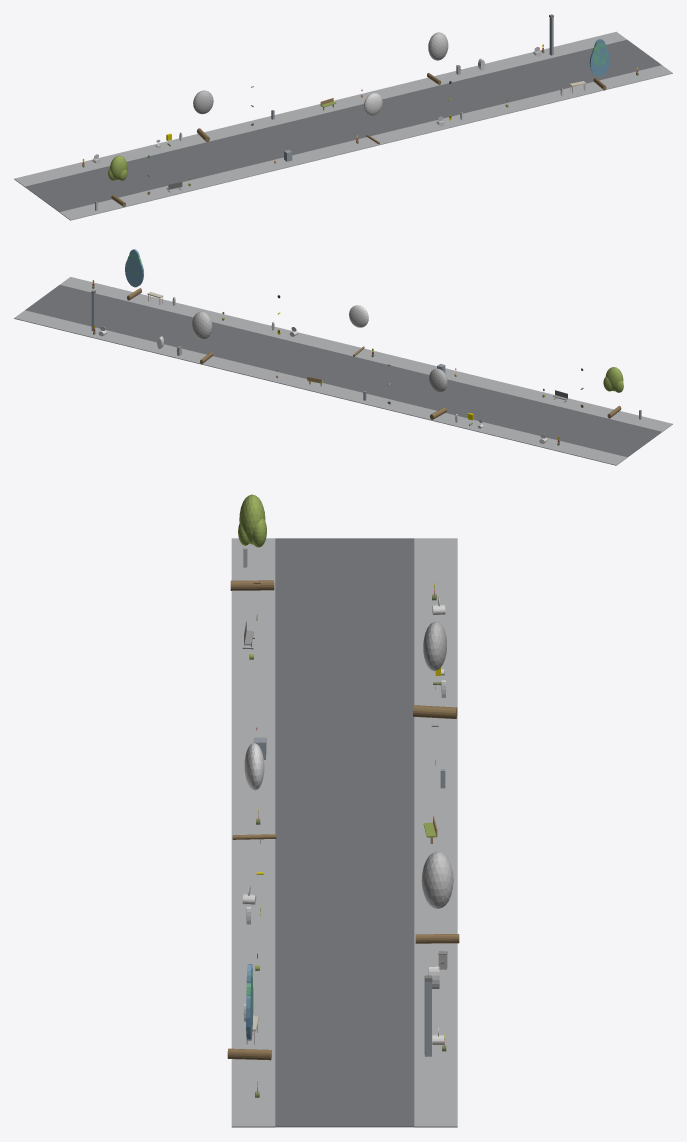
The picture shows the model from 3 angles, top to bottom: view 1: azimuth 30°, elevation 25°; view 2: azimuth 150°, elevation 25°; view 3: azimuth 270°, elevation 25°; orthographic projection. The views are drawn at different scales.
Visible parts, largest first — view 1: road_slab, sidewalk_left, sidewalk_right, inst_0016, inst_0015, inst_0013, inst_0012, inst_0014; view 2: road_slab, sidewalk_right, sidewalk_left, inst_0016, inst_0015, inst_0012, inst_0013, inst_0014; view 3: road_slab, sidewalk_left, sidewalk_right, inst_0015, inst_0012, inst_0013, inst_0016, inst_0014.
Boxes of the visible parts, x1,y1,x2,y2 form: road_slab: (25, 39, 661, 212); sidewalk_left: (59, 65, 672, 220); sidewalk_right: (14, 31, 626, 186); inst_0016: (589, 38, 610, 90); inst_0015: (427, 32, 448, 84); inst_0013: (193, 90, 213, 142); inst_0012: (108, 155, 127, 206); inst_0014: (363, 93, 382, 144); road_slab: (25, 285, 661, 457); sidewalk_right: (14, 310, 627, 465); sidewalk_left: (60, 277, 672, 431); inst_0016: (125, 249, 143, 300); inst_0015: (192, 311, 213, 364); inst_0012: (603, 367, 623, 418); inst_0013: (429, 368, 447, 419); inst_0014: (349, 305, 368, 356); road_slab: (275, 538, 414, 1127); sidewalk_left: (231, 538, 275, 1127); sidewalk_right: (414, 538, 457, 1127); inst_0015: (415, 851, 459, 943); inst_0012: (230, 494, 274, 590); inst_0013: (413, 621, 457, 718); inst_0016: (227, 964, 271, 1060); inst_0014: (232, 743, 276, 839).
Bounding box in the file's own units: 80 × 6.08 × 13.31.
